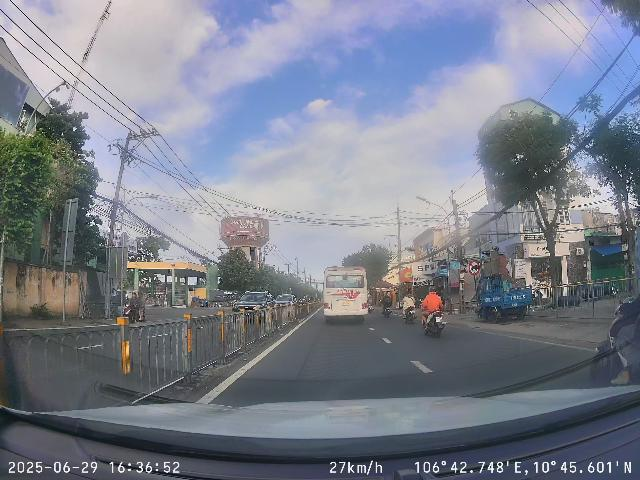106-cam-oto-tai: (468, 260, 480, 276)
